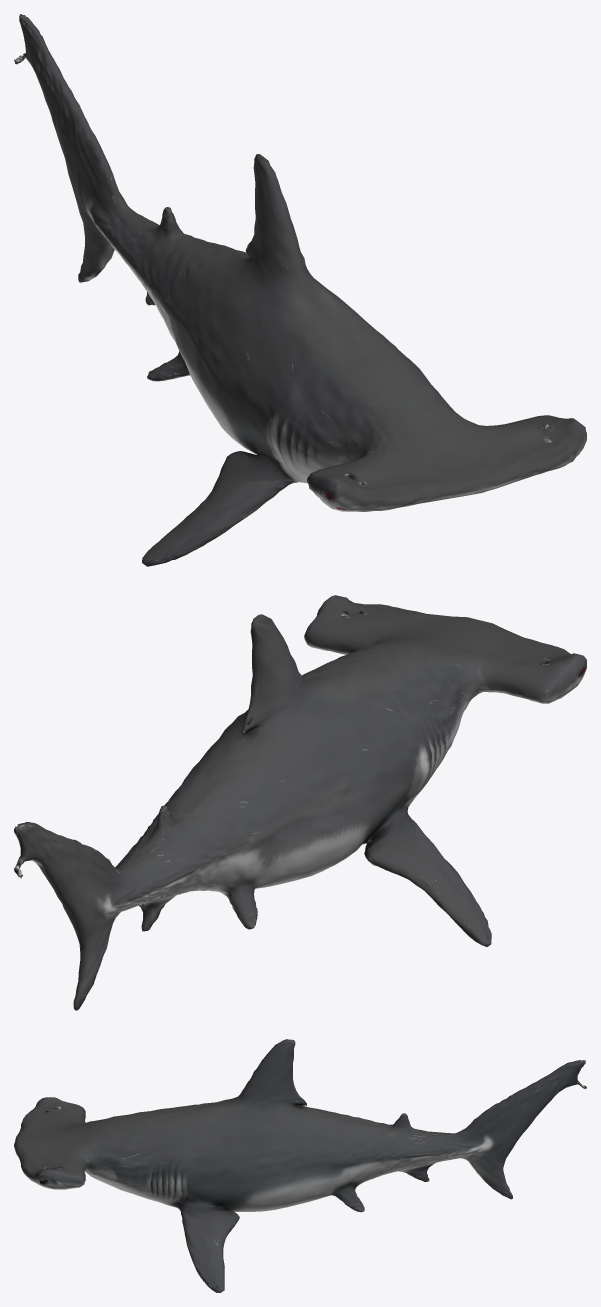
The model's file is sledgehammer.glb.
3 renders of one model, top to bottom at view 1: azimuth 30°, elevation 25°; view 2: azimuth 150°, elevation 25°; view 3: azimuth 270°, elevation 25°, orthographic. The views are drawn at different scales.
Bounding box in the file's own units: 0.8258 × 0.7397 × 1.91.
Materials: 1 (1 with a texture image).
